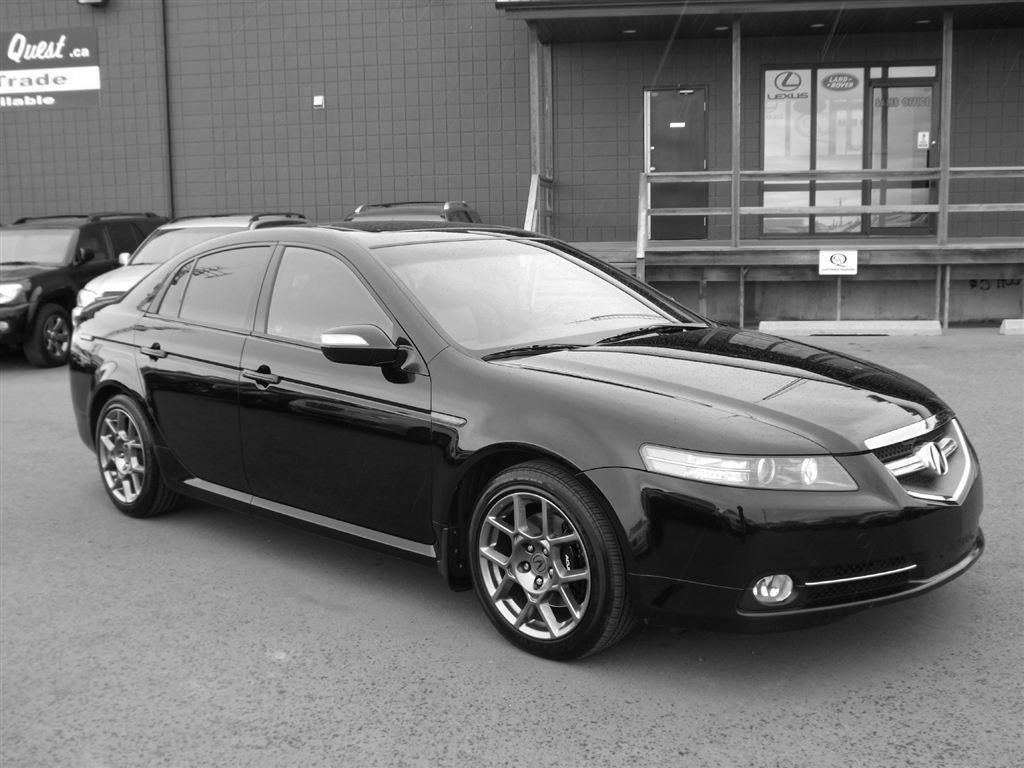car: (62, 220, 992, 667)
